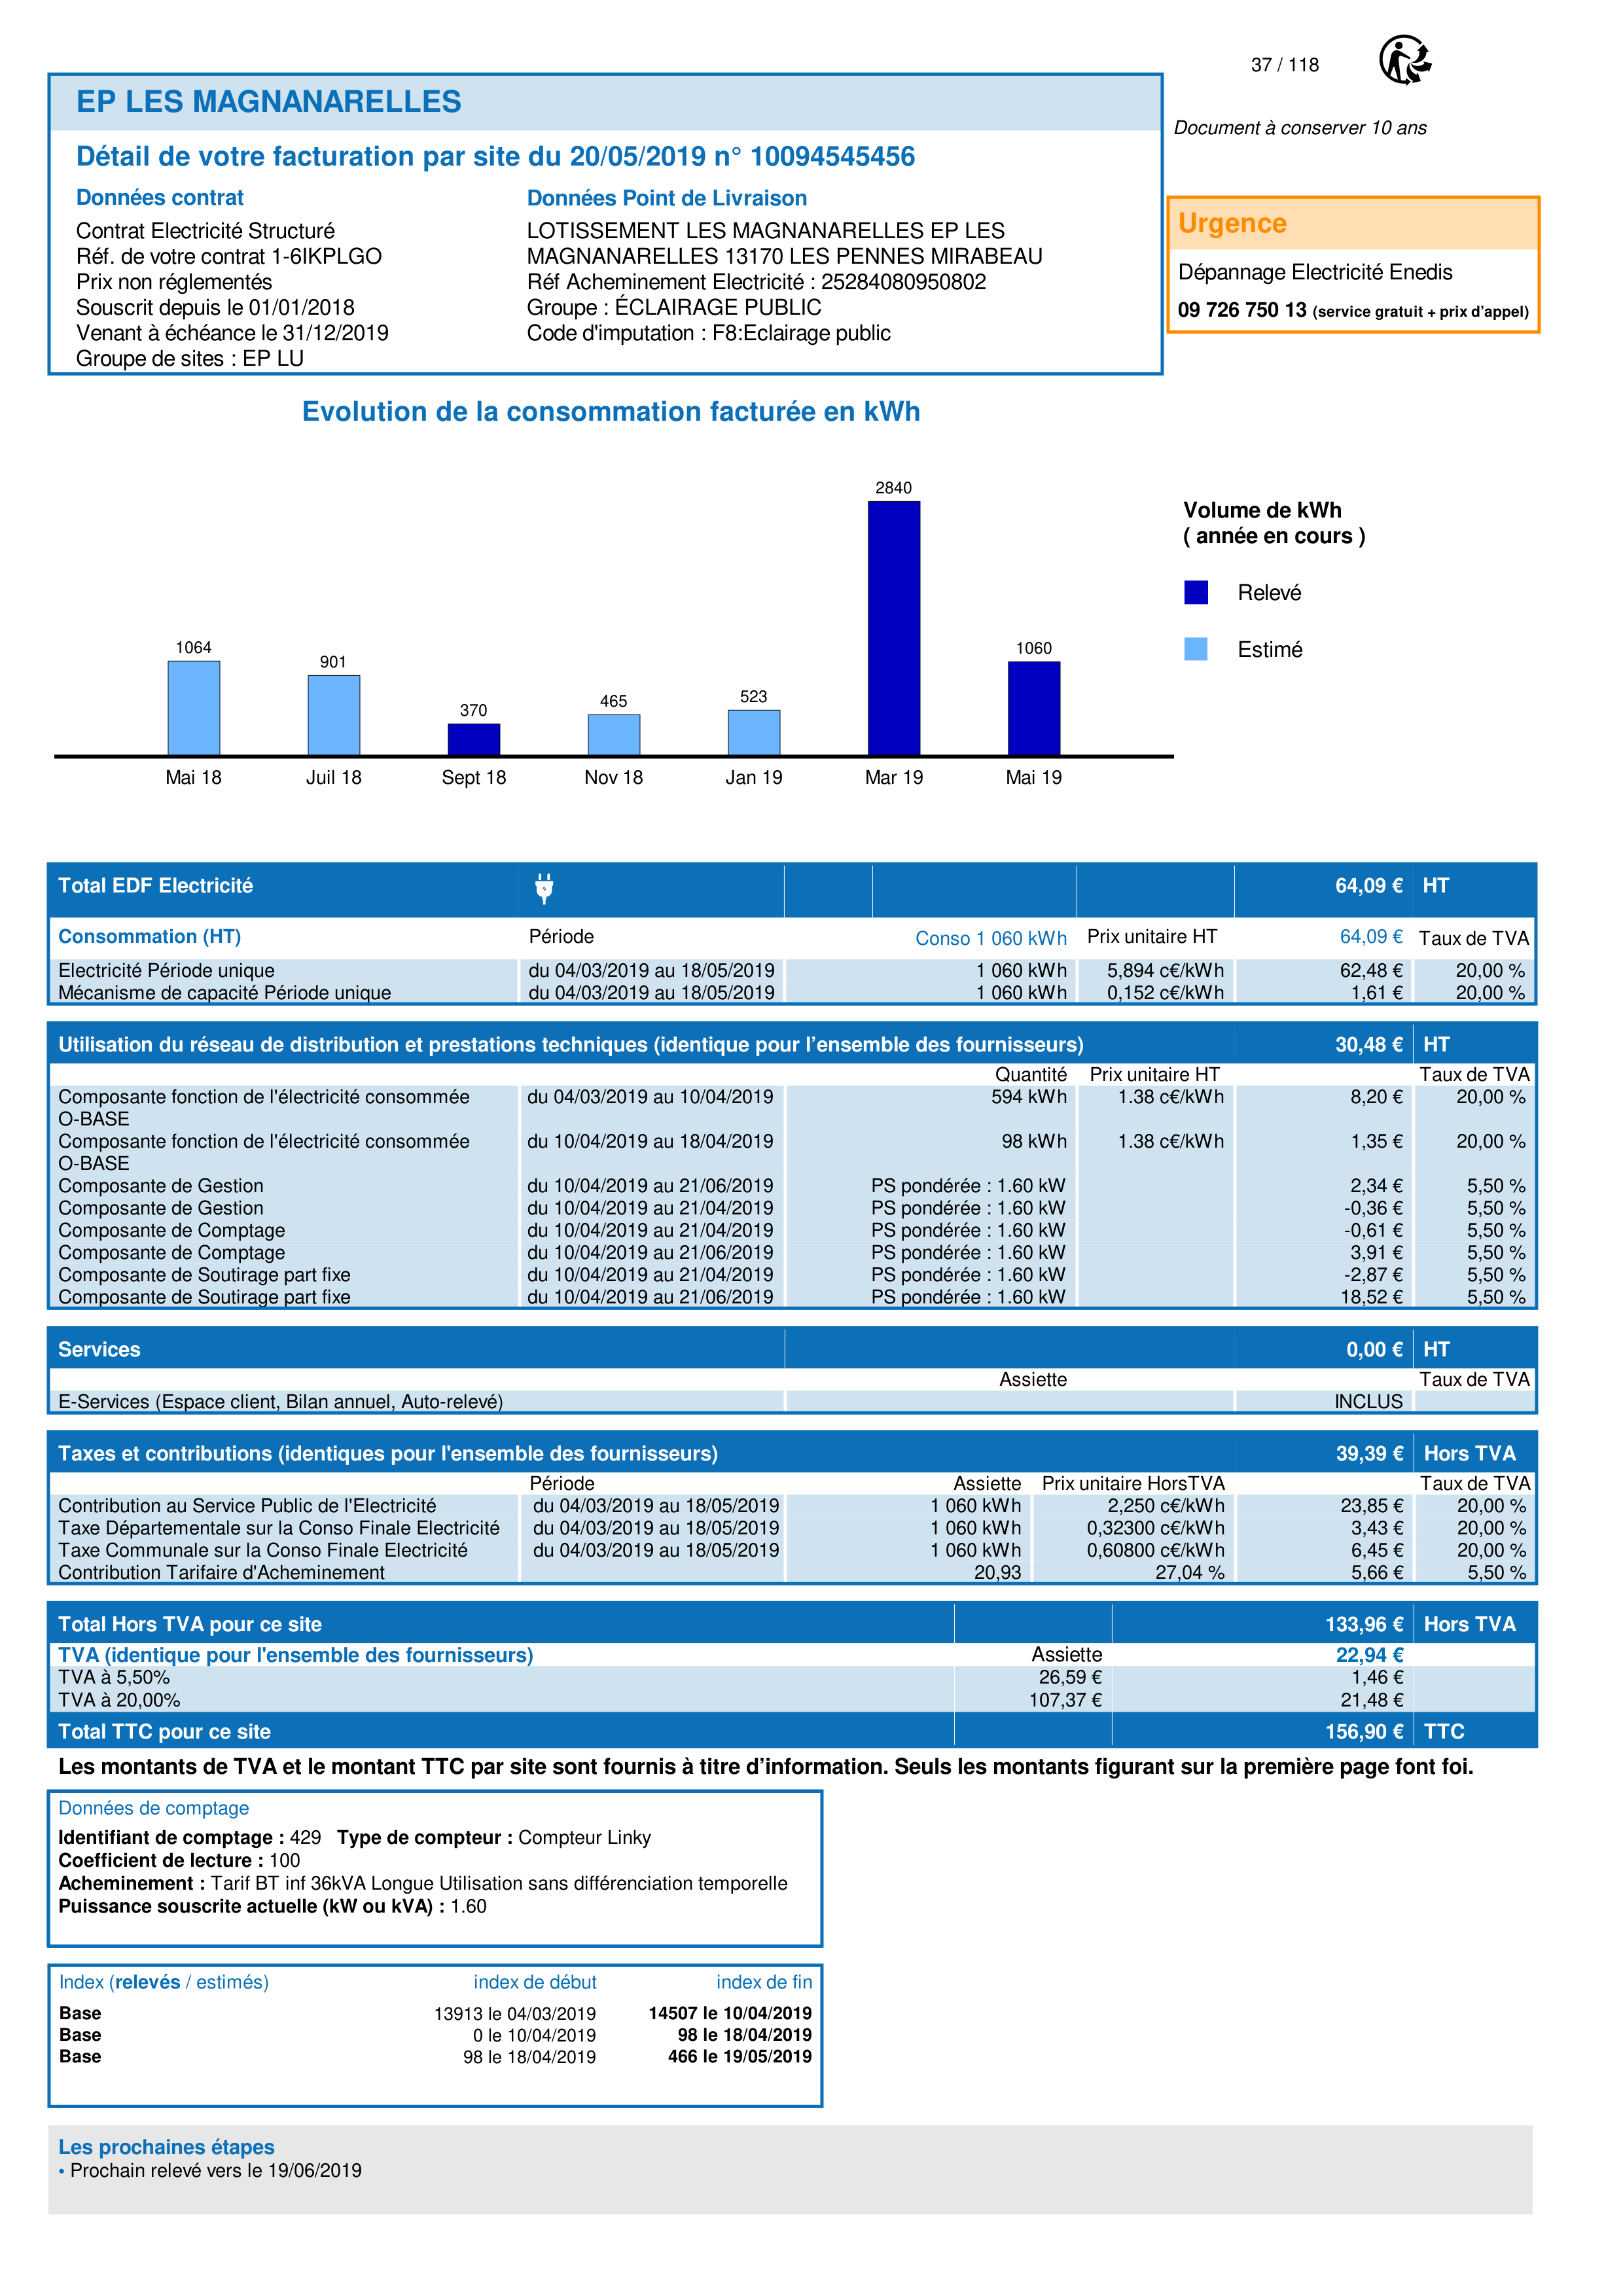area: (49, 1962, 820, 2105)
type_indicator: (47, 1962, 283, 2001)
